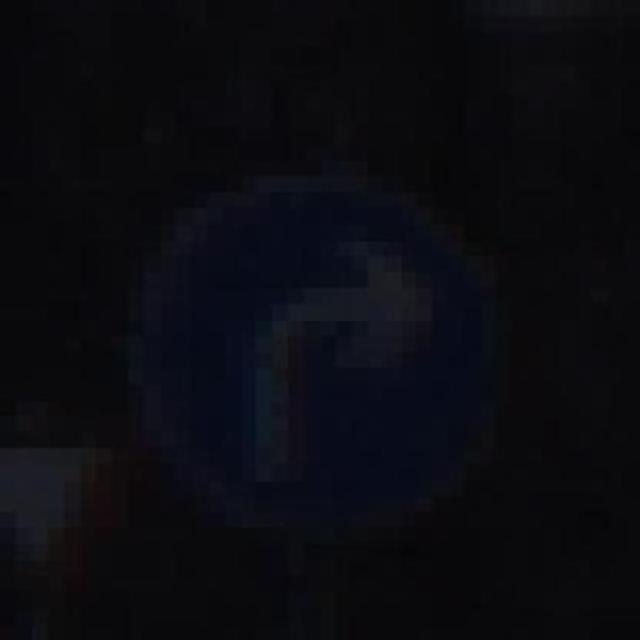Turn right ahead: (95, 111, 560, 528)
